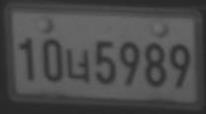0: (42, 39, 63, 81)
1: (19, 37, 38, 81)
5: (94, 41, 116, 83)
8: (144, 43, 165, 87)
9: (169, 43, 190, 87), (120, 42, 140, 85)
너: (65, 48, 91, 83)
